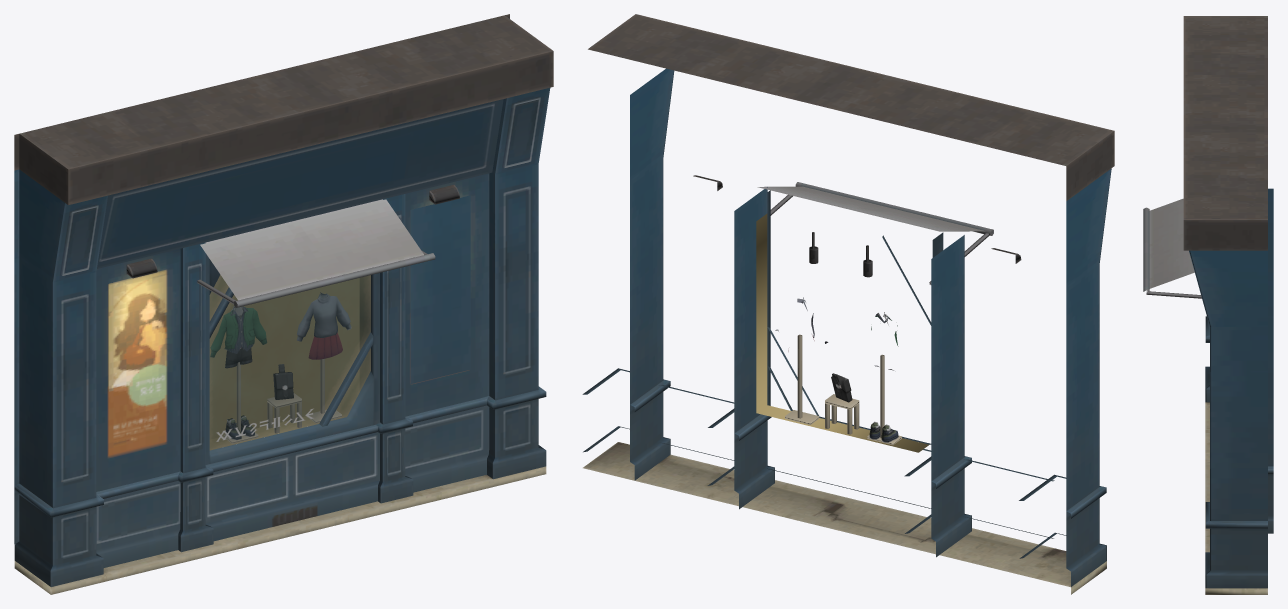
File: t1_b_boutique1_a_wall.glb
3 renders of one model, left to right at view 1: azimuth 30°, elevation 25°; view 2: azimuth 150°, elevation 25°; view 3: azimuth 270°, elevation 25°, orthographic. The views are drawn at different scales.
Visible parts, largest first — view 1: nomerge_t1_b_boutique1_a_wall1_model; view 2: nomerge_t1_b_boutique1_a_wall1_model; view 3: nomerge_t1_b_boutique1_a_wall1_model.
Boxes of the visible parts, bbox=[...] form: nomerge_t1_b_boutique1_a_wall1_model: bbox=[14, 14, 553, 594]; nomerge_t1_b_boutique1_a_wall1_model: bbox=[582, 14, 1114, 594]; nomerge_t1_b_boutique1_a_wall1_model: bbox=[1143, 16, 1273, 594].
Bounding box in the file's own units: 5.5 × 4.6 × 1.46.
Materials: 3 (3 with a texture image).
